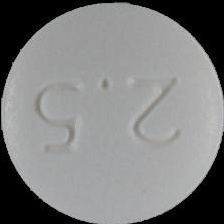68151-2031: (0, 0, 224, 224)
